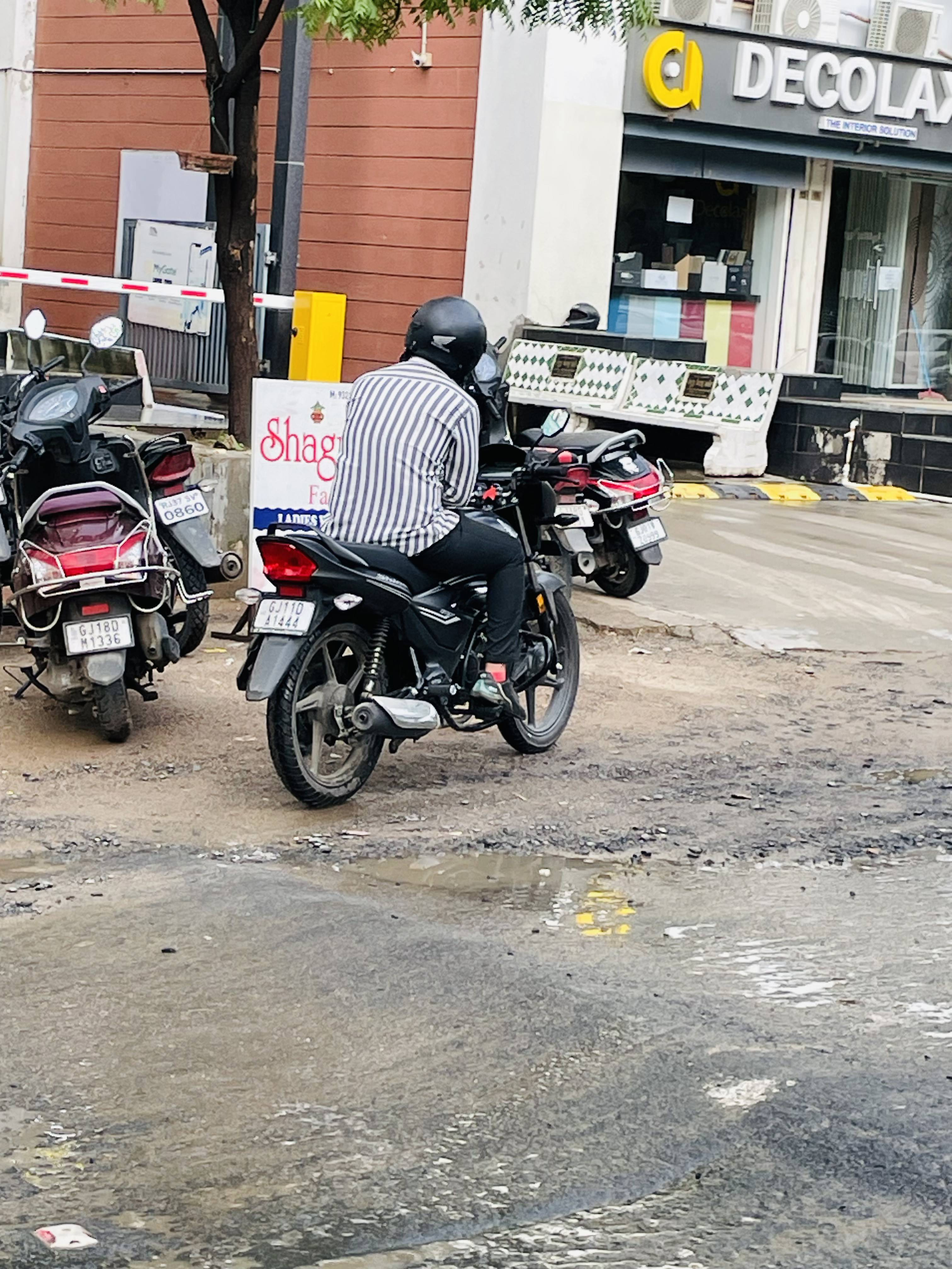BikeWithRider: (222, 286, 604, 807)
Helmet: (389, 289, 489, 397)
